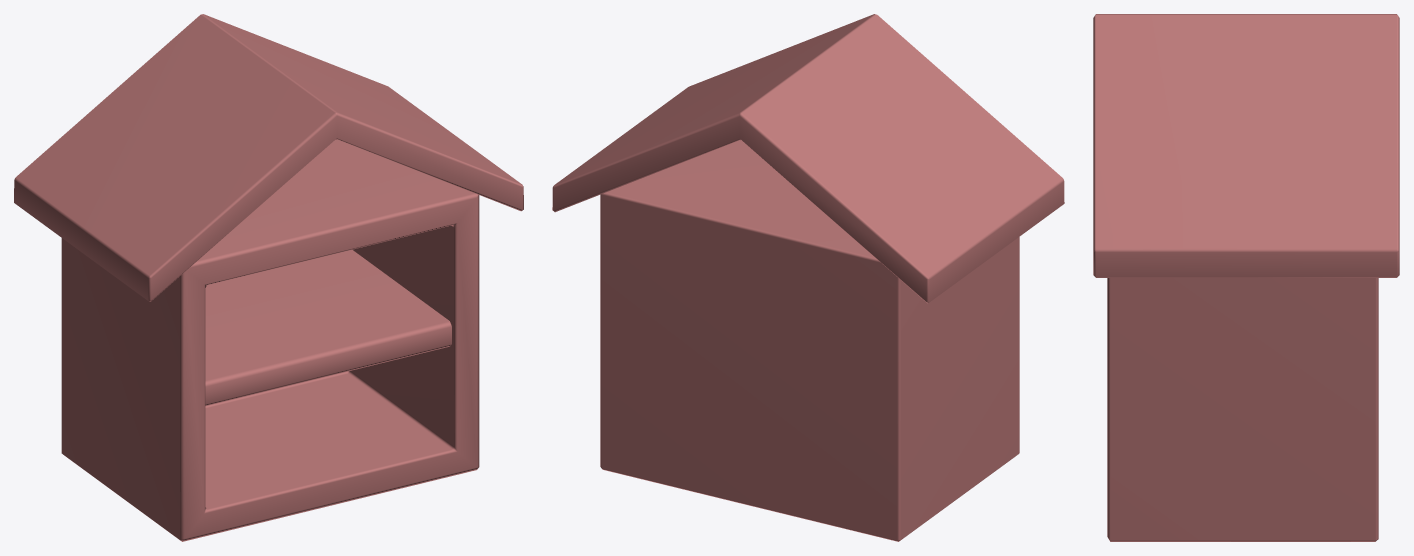
The model's file is Toy_House.glb.
The picture shows the model from 3 angles, left to right: view 1: azimuth 30°, elevation 25°; view 2: azimuth 150°, elevation 25°; view 3: azimuth 270°, elevation 25°; orthographic projection. The views are drawn at different scales.
Visible parts, largest first — view 1: Toy_House; view 2: Toy_House; view 3: Toy_House.
Boxes of the visible parts, x1,y1,x2,y2 form: Toy_House: (14,14,523,541); Toy_House: (552,14,1064,541); Toy_House: (1093,14,1399,541).
Size of the model in its own units: 1.14 by 1.15 by 0.716.
Materials: 1 (1 with a texture image).
